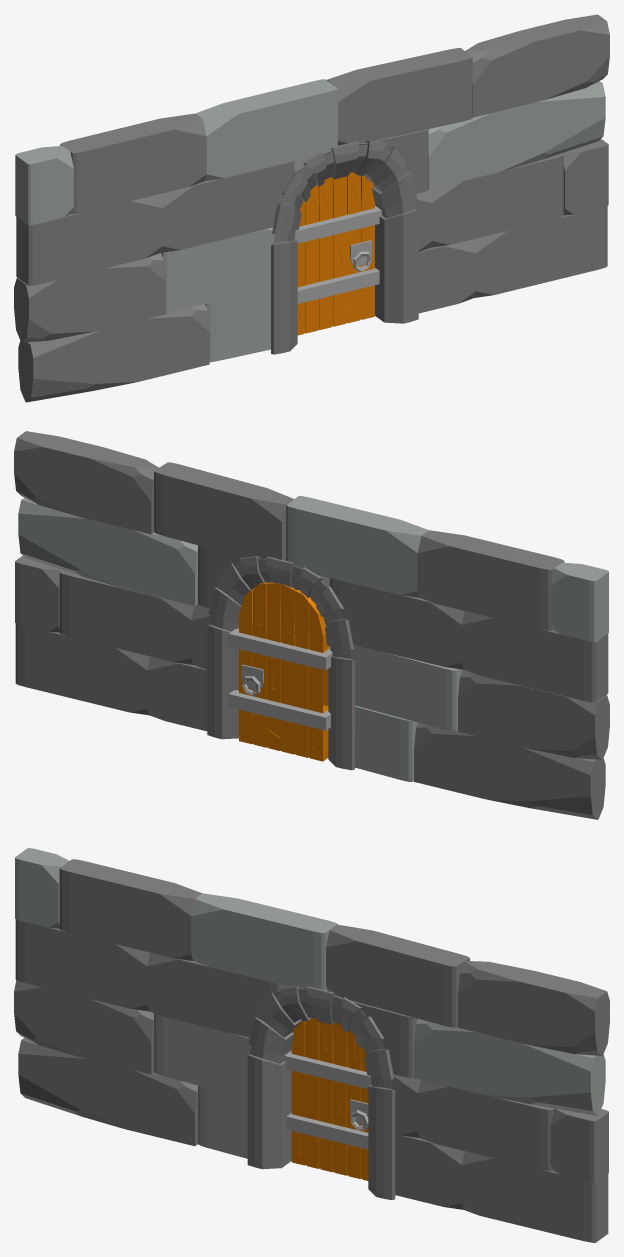
Rendered from walls_002.fbx.
The picture shows the model from 3 angles, top to bottom: view 1: azimuth 30°, elevation 25°; view 2: azimuth 150°, elevation 25°; view 3: azimuth 330°, elevation 25°; orthographic projection.
Visible parts, largest first — view 1: walls.005, doors.001; view 2: walls.005, doors.001; view 3: walls.005, doors.001.
Boxes of the visible parts, x1=… form: walls.005: x1=14, y1=14, x2=609, y2=402; doors.001: x1=294, y1=172, x2=382, y2=335; walls.005: x1=14, y1=431, x2=609, y2=819; doors.001: x1=228, y1=582, x2=332, y2=761; walls.005: x1=14, y1=848, x2=609, y2=1242; doors.001: x1=284, y1=1018, x2=371, y2=1180.
Size of the model in its own units: 264 by 106 by 21.43.
